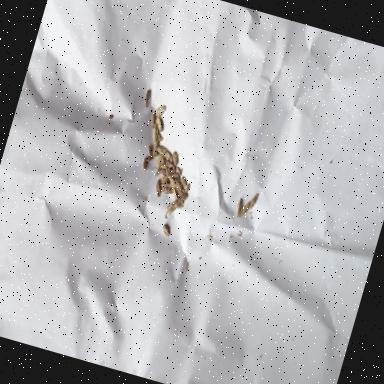pbw: (172, 180, 187, 198), (234, 198, 246, 220), (150, 122, 162, 143), (152, 103, 166, 120), (152, 179, 164, 198), (249, 191, 260, 210), (175, 190, 188, 206), (160, 224, 174, 238), (142, 89, 152, 108), (150, 140, 160, 158), (240, 200, 251, 216), (154, 118, 166, 132), (170, 151, 180, 167), (148, 113, 158, 129), (178, 176, 190, 189), (154, 153, 164, 168), (166, 176, 178, 188), (170, 188, 180, 201), (162, 186, 174, 196), (155, 146, 167, 156), (154, 162, 162, 177), (174, 200, 184, 210), (160, 180, 170, 190), (141, 158, 148, 172), (183, 182, 191, 194), (146, 145, 154, 155), (170, 171, 180, 179), (174, 166, 182, 176), (164, 160, 174, 168), (164, 151, 172, 160), (160, 176, 168, 185), (159, 168, 168, 176), (184, 261, 190, 272), (170, 162, 177, 171), (146, 154, 153, 162), (160, 157, 166, 165), (169, 168, 175, 175), (160, 164, 167, 170), (157, 136, 164, 142), (169, 154, 174, 162), (179, 168, 183, 175)
